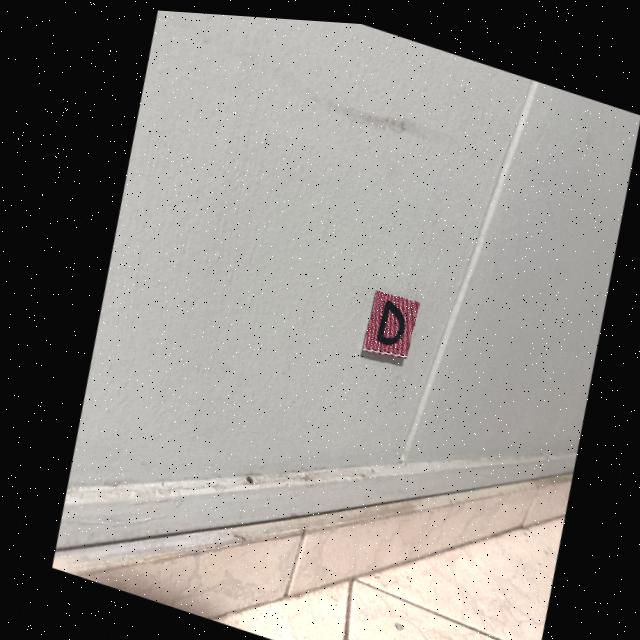D: (370, 295, 399, 340)
